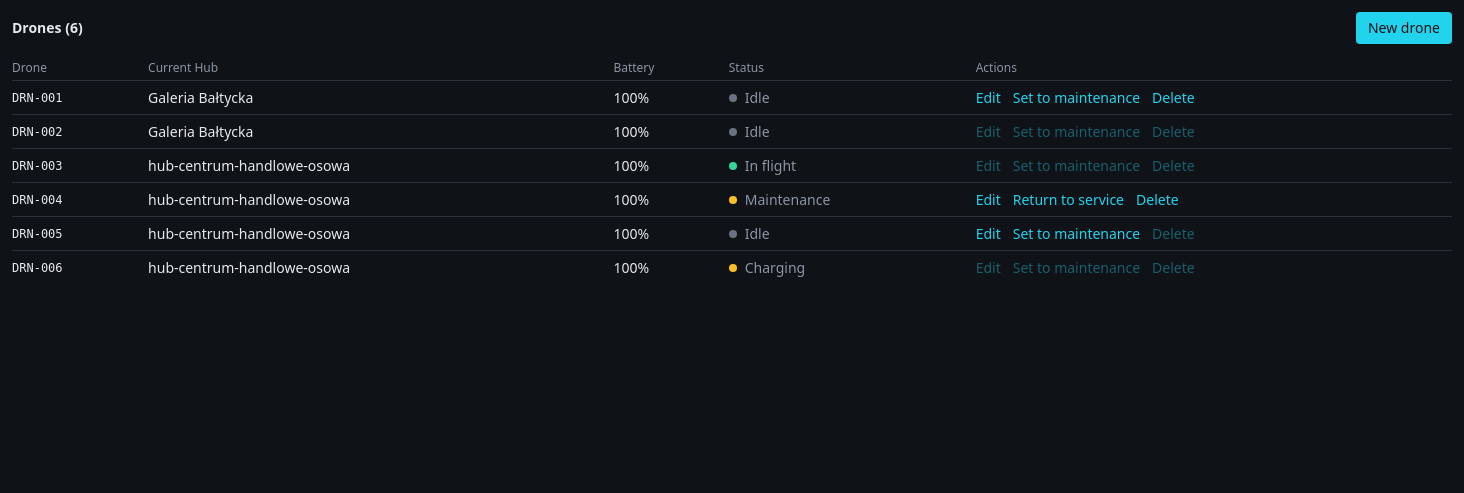
Test case: DronesManager › shows the backend message when the Hub is full
What coordinates should you click on to do the following:
click the button "New drone"
I would click on:
 (1404, 28)
Its box is x1=1356 y1=12 x2=1452 y2=44.
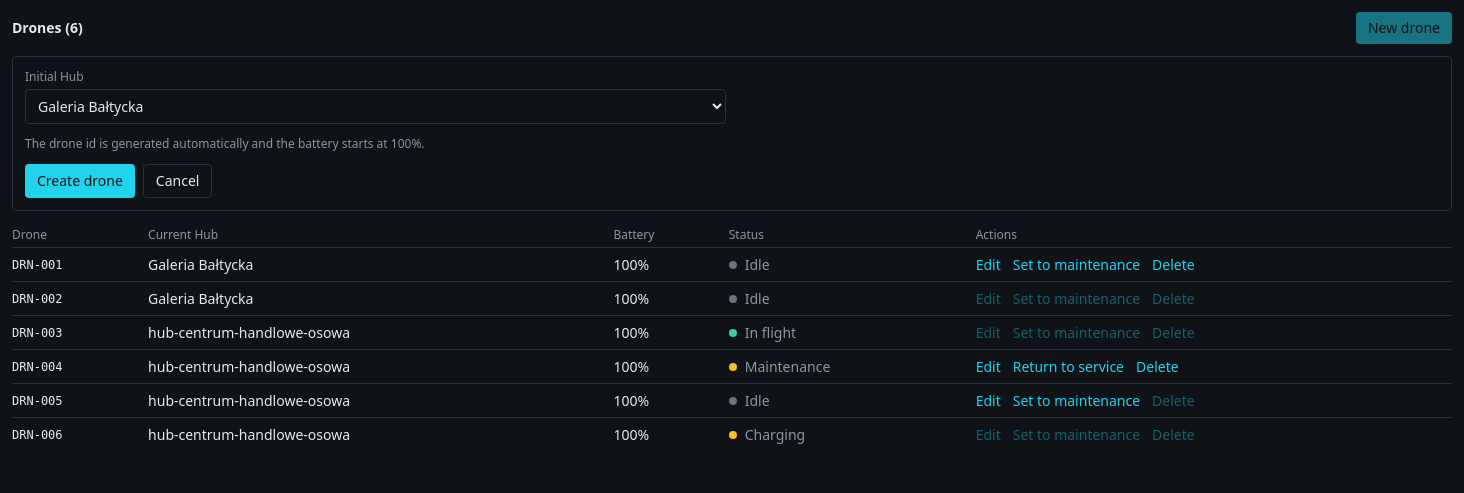
What coordinates should you click on to do the following:
click the button "Create drone"
I would click on:
 (80, 181)
Its box is x1=25 y1=164 x2=135 y2=198.
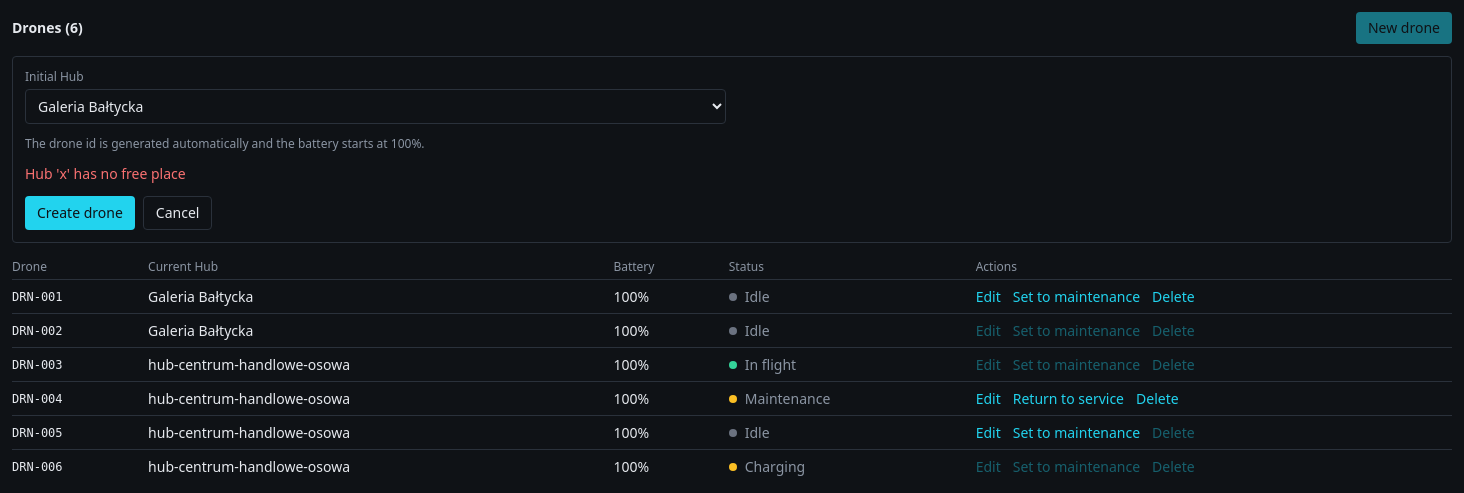
Expected: the form named "Create drone" is shown, x1=12 y1=56 x2=1452 y2=243
Expected: the message reads "Hub 'x' has no free place", x1=25 y1=164 x2=186 y2=183
